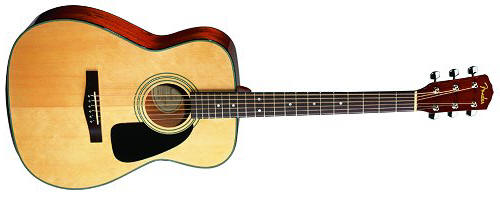guitar: (5, 4, 496, 191)
